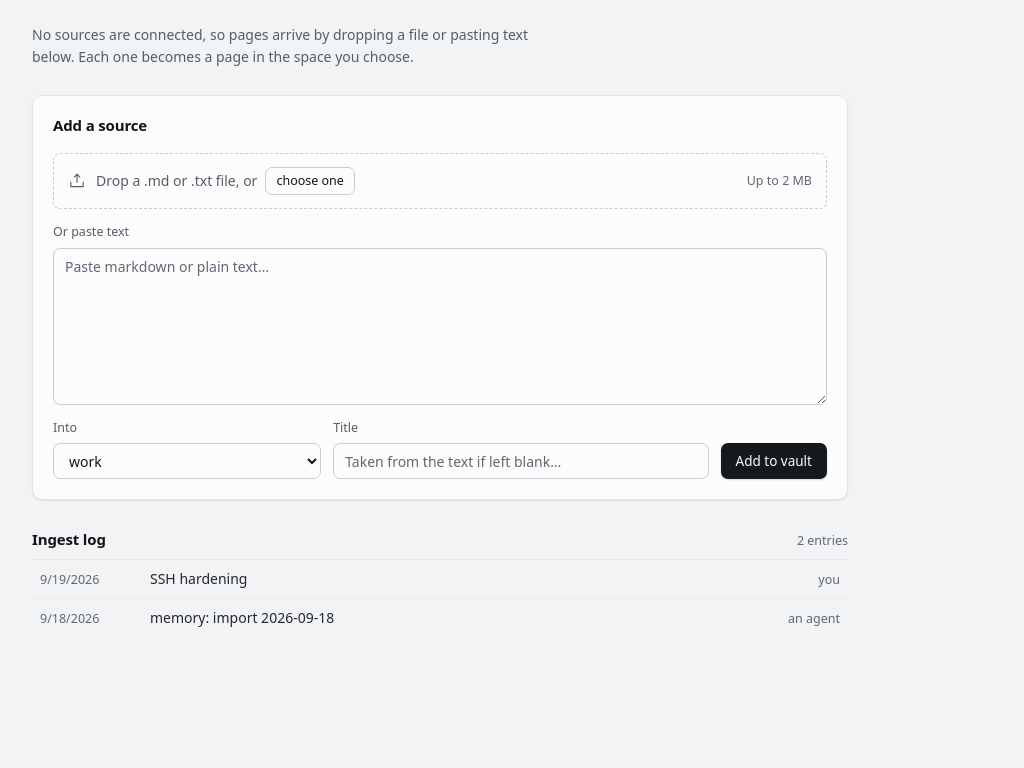
Test: SourcesScreen › shows a friendly retry message on a 409 slug collision
Check: the text "No sources are connected" is shown, box [32,25,528,66]
In the text box labelled "Or paste text": (440, 326) [53,248,827,405], type "Some pasted content."
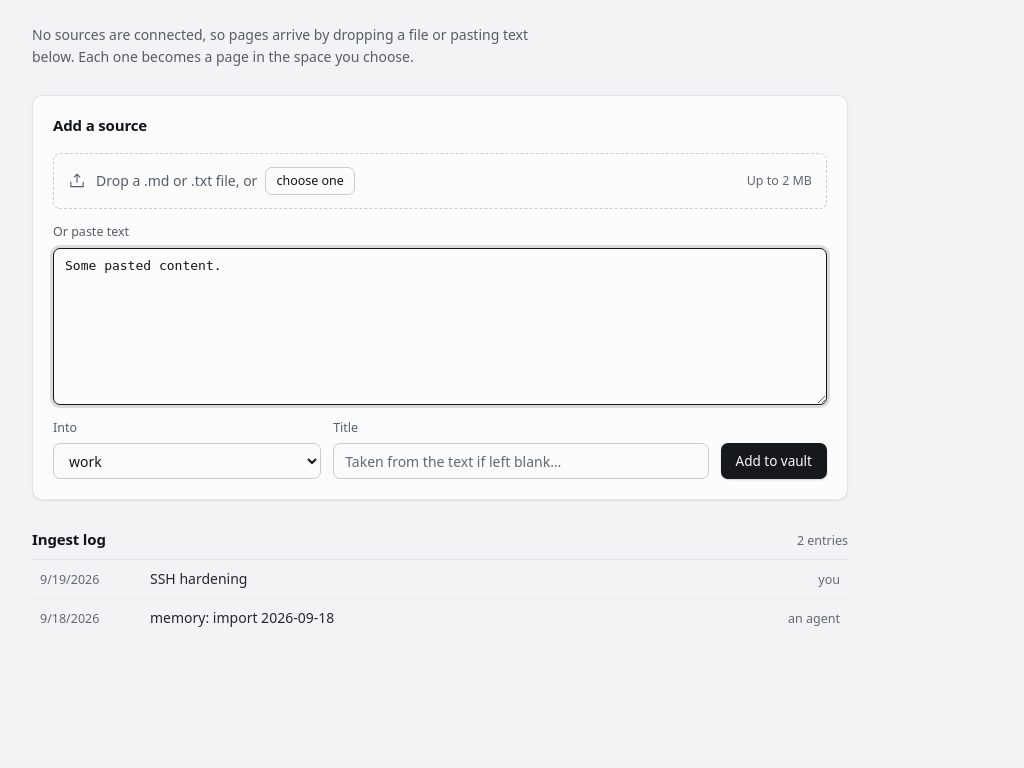
Click the button "Add to vault": (774, 461) [720,443,827,479]
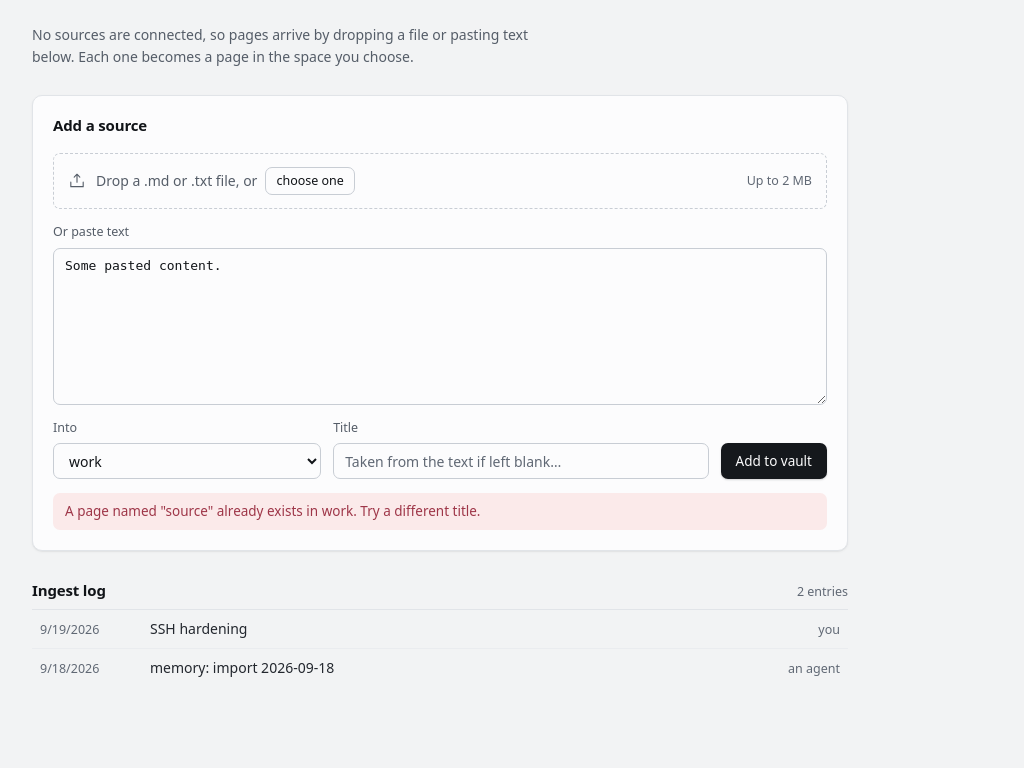
Check: the text "A page named \"source\" already exists in work. Try a different title." is shown, box [53,493,827,530]
